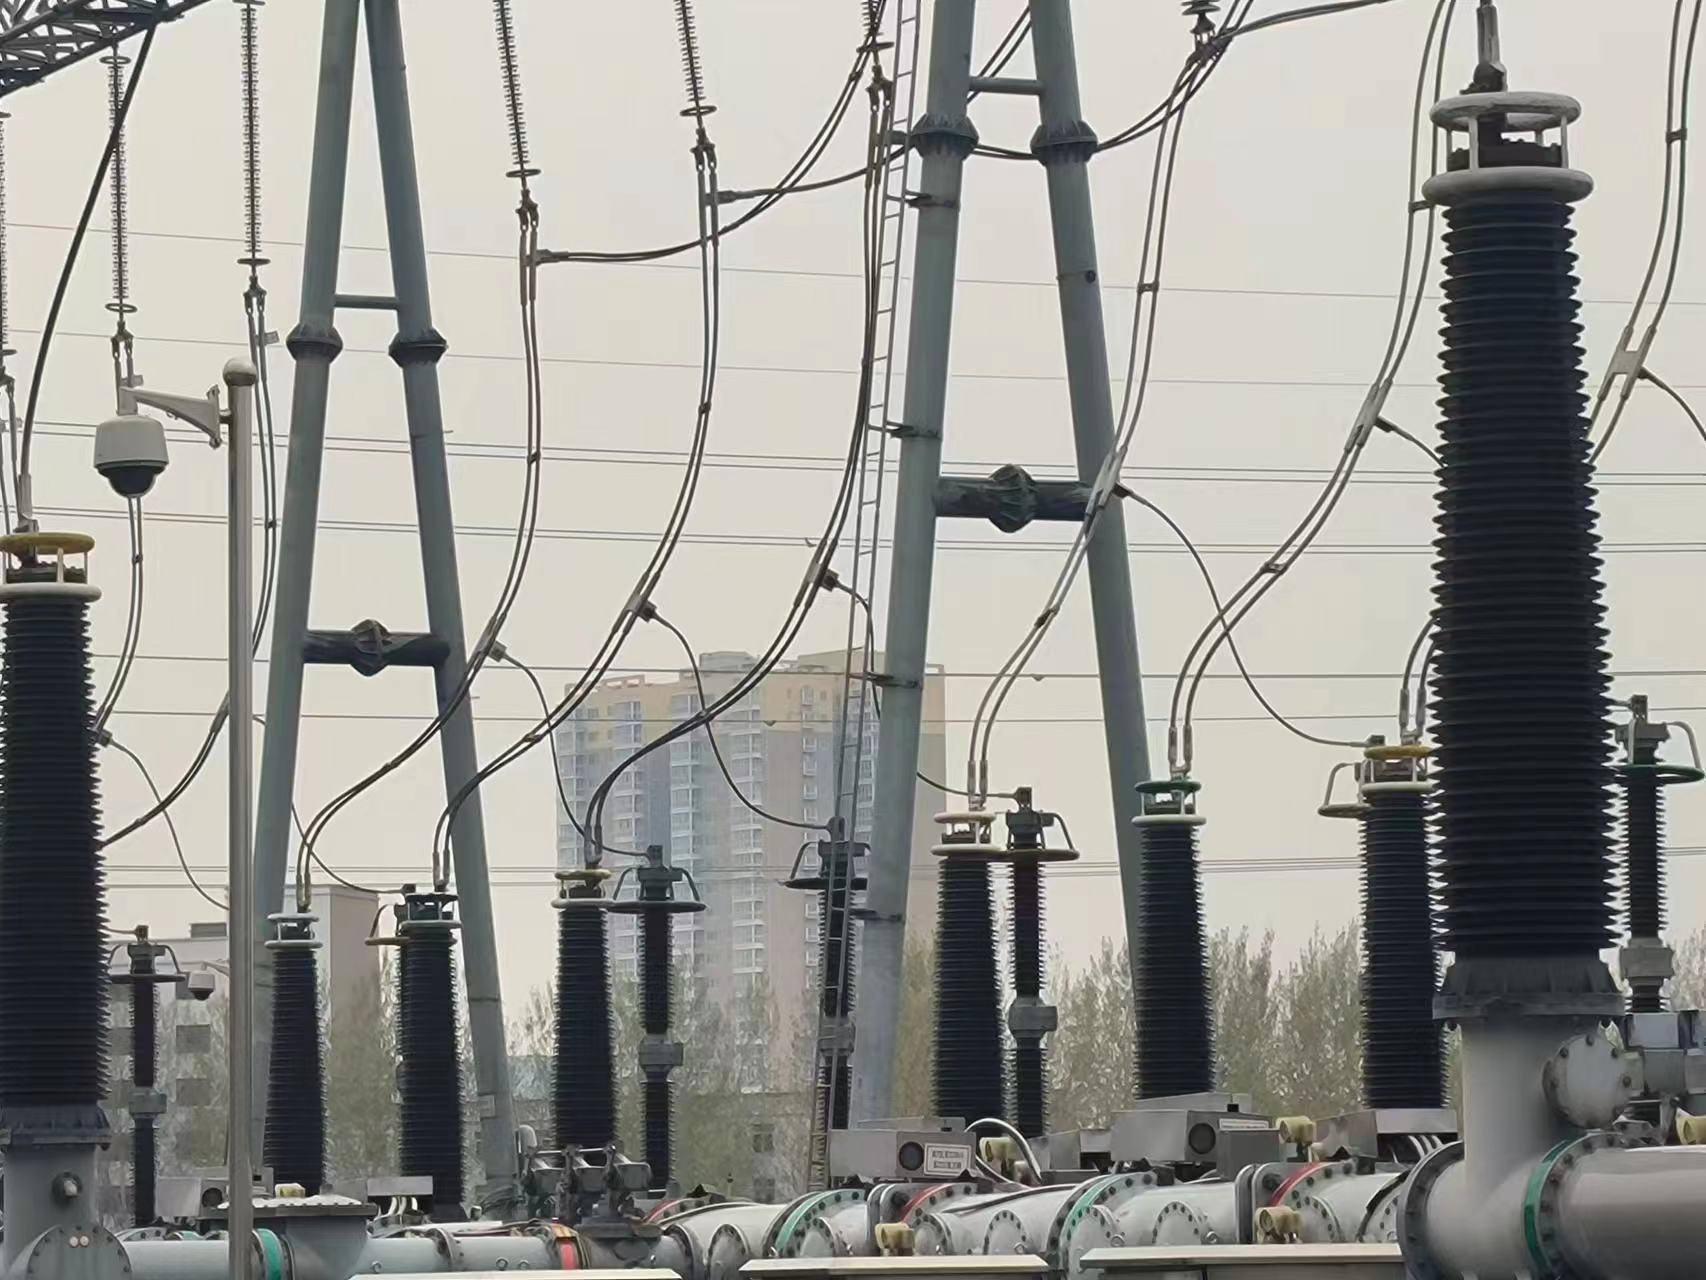Arrester: (610, 858, 708, 1189), (105, 934, 188, 1230)
Voltage transformer: (1420, 86, 1615, 1011), (1, 527, 120, 1119), (1351, 739, 1441, 1119), (917, 809, 1015, 1131), (1131, 777, 1219, 1098), (253, 909, 348, 1195), (397, 893, 485, 1199), (539, 861, 631, 1154)
